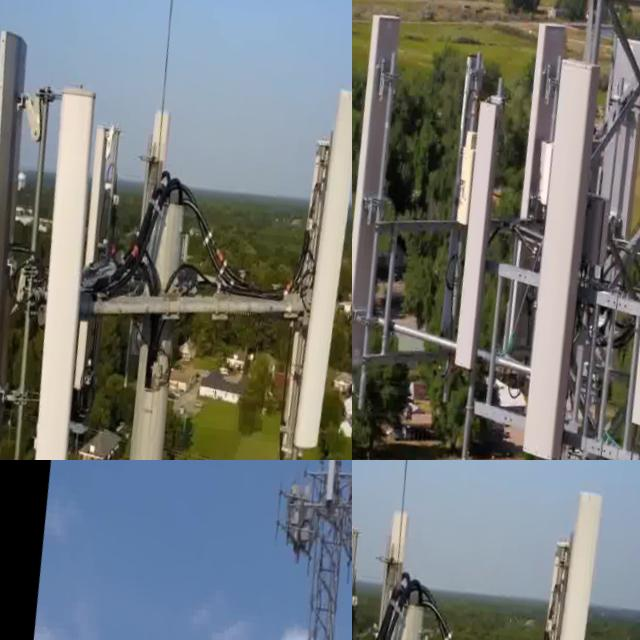GSM Antenna: (467, 53, 633, 460), (0, 75, 149, 460), (245, 69, 352, 460), (0, 21, 76, 460), (421, 95, 526, 393), (352, 4, 434, 385), (41, 121, 137, 408), (554, 24, 640, 336), (494, 482, 632, 640), (494, 10, 577, 244), (597, 133, 640, 445), (352, 485, 433, 640), (120, 109, 184, 256), (314, 460, 347, 514)
